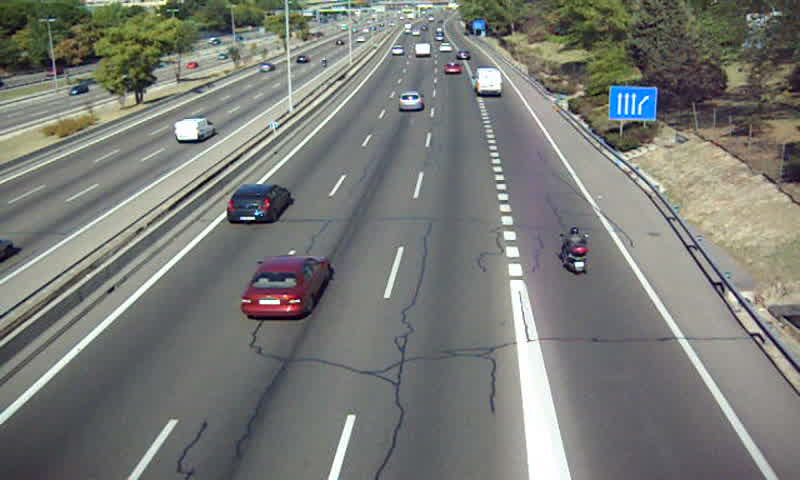car: (241, 255, 331, 319), (225, 184, 291, 225), (397, 92, 422, 114), (442, 62, 462, 76), (456, 49, 471, 61), (438, 42, 453, 54), (390, 45, 404, 56)
motorcycle: (558, 226, 590, 276)
van: (474, 67, 503, 96), (413, 42, 429, 57)
